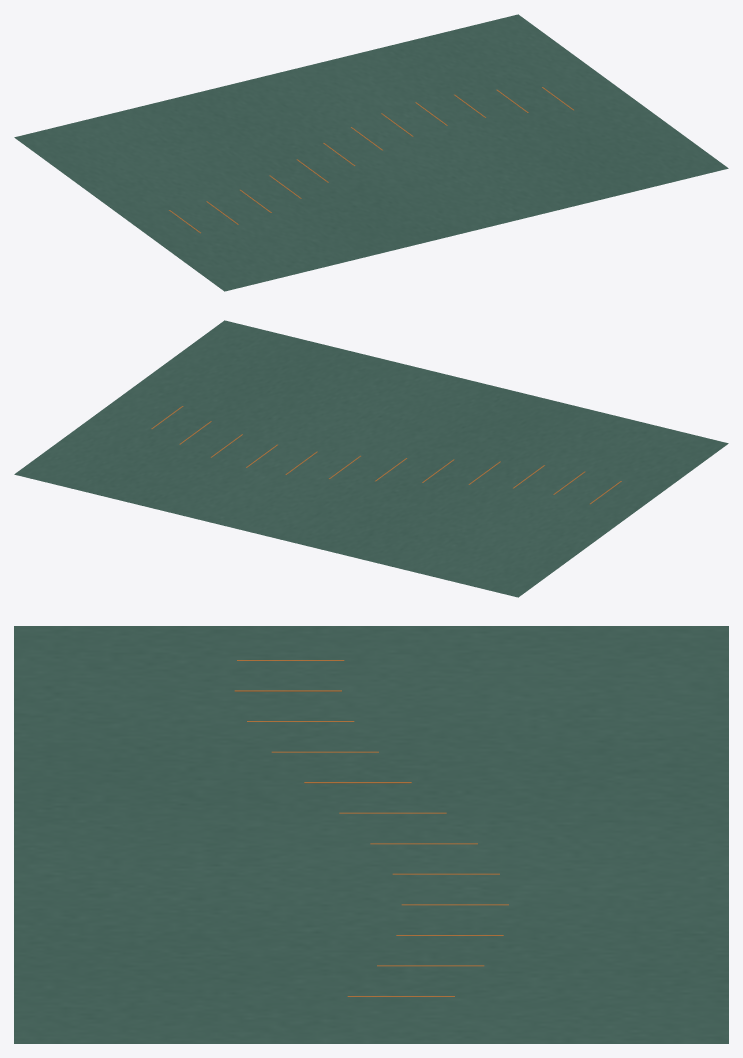
Rendered from 267_L120_L2_LayerReference.obj.
The picture shows the model from 3 angles, top to bottom: view 1: azimuth 30°, elevation 25°; view 2: azimuth 150°, elevation 25°; view 3: azimuth 270°, elevation 25°; orthographic projection. The views are drawn at different scales.
Visible parts, largest first — view 1: 267_L120_L2_LayerReference; view 2: 267_L120_L2_LayerReference; view 3: 267_L120_L2_LayerReference.
Boxes of the visible parts, x1=… form: 267_L120_L2_LayerReference: x1=14, y1=14, x2=728, y2=291; 267_L120_L2_LayerReference: x1=14, y1=320, x2=728, y2=597; 267_L120_L2_LayerReference: x1=14, y1=626, x2=728, y2=1043.
Size of the model in its own units: 0.506 by 0.000208 by 0.366.
Materials: 2 (2 with a texture image).
